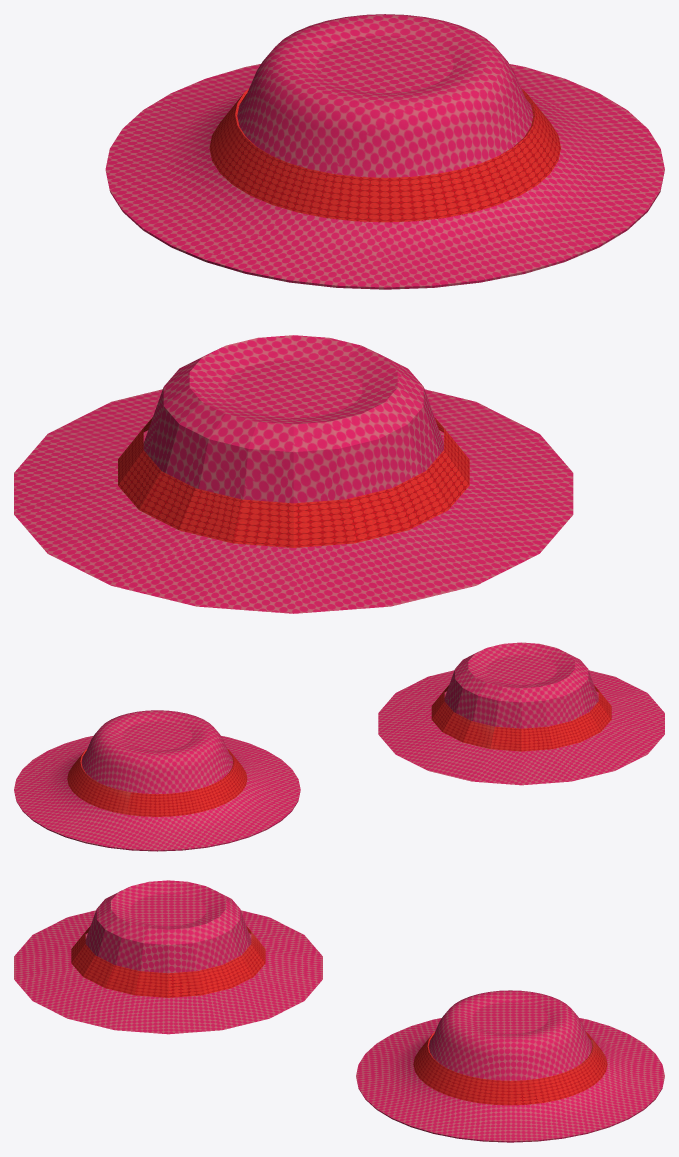
3 views of the same model, one above another, from view 1: azimuth 30°, elevation 25°; view 2: azimuth 150°, elevation 25°; view 3: azimuth 270°, elevation 25° (orthographic). The views are drawn at different scales.
Parts seen in each view (by area): view 1: loop001, loop; view 2: loop001, loop; view 3: loop001, loop.
Part boxes in pixels (box(x1,y1,x2,y2)): loop001: box(14, 335, 573, 613); loop: box(105, 14, 664, 289); loop001: box(378, 642, 664, 785); loop: box(14, 710, 300, 851); loop001: box(14, 880, 322, 1034); loop: box(356, 990, 664, 1142).
Size of the model in its own units: 103 by 12.87 by 118.
1 material, 1 textured.
